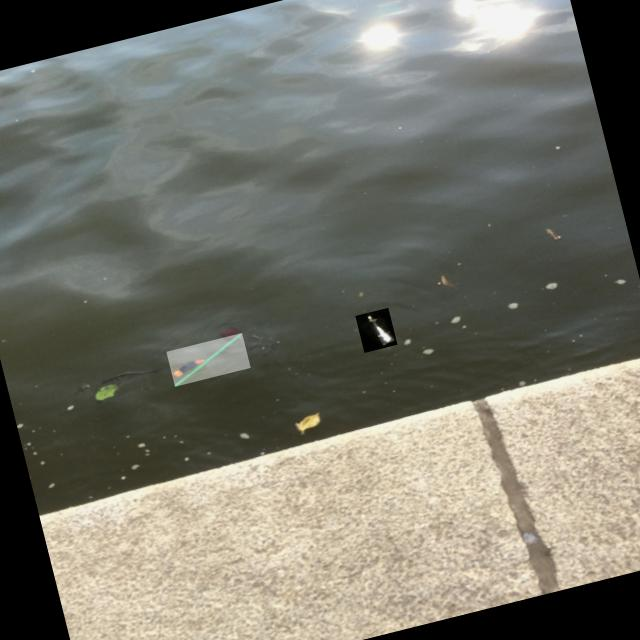Cup: (357, 312, 396, 348)
Other plastic bottle: (172, 359, 204, 377)
Straw: (174, 333, 242, 386)
